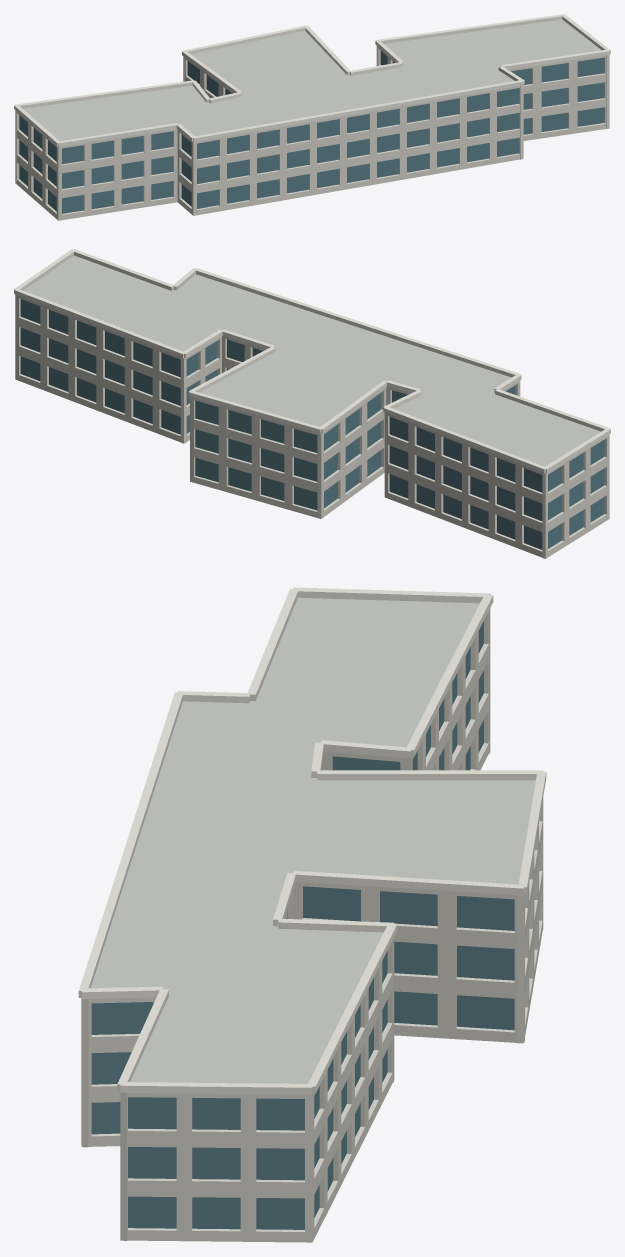
Rendered from sb_1556523872.far.glb.
The picture shows the model from 3 angles, top to bottom: view 1: azimuth 30°, elevation 25°; view 2: azimuth 150°, elevation 25°; view 3: azimuth 270°, elevation 25°; orthographic projection. The views are drawn at different scales.
Visible parts, largest first — view 1: roof, wall, glass, trim; view 2: roof, wall, glass, trim; view 3: roof, wall, glass, trim.
Boxes of the visible parts, x1,y1,x2,y2 form: roof: [23, 19, 601, 141]; wall: [15, 46, 609, 220]; glass: [19, 51, 604, 213]; trim: [14, 14, 610, 146]; roof: [23, 255, 600, 466]; wall: [15, 294, 609, 558]; glass: [20, 299, 604, 549]; trim: [14, 249, 610, 473]; roof: [90, 597, 535, 1083]; wall: [81, 608, 543, 1242]; glass: [91, 621, 514, 1229]; trim: [78, 587, 546, 1094].
Size of the model in its own units: 66.98 by 9.74 by 26.45.
